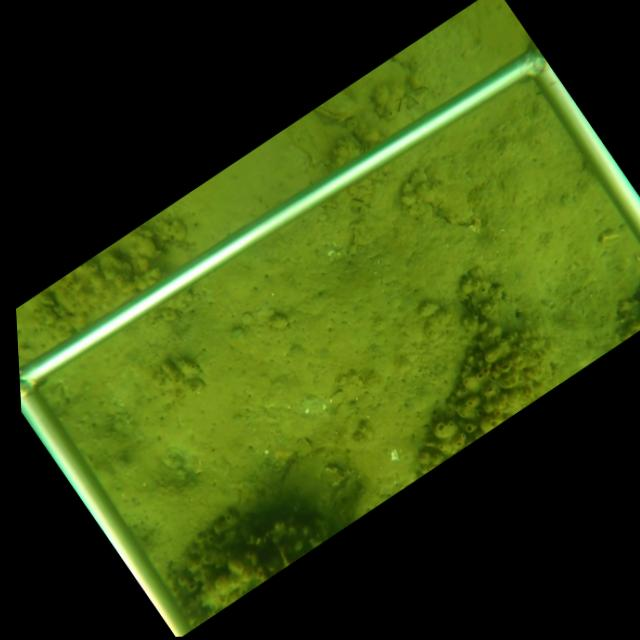Oyster-Closed: (314, 90, 358, 124), (461, 287, 482, 320)
